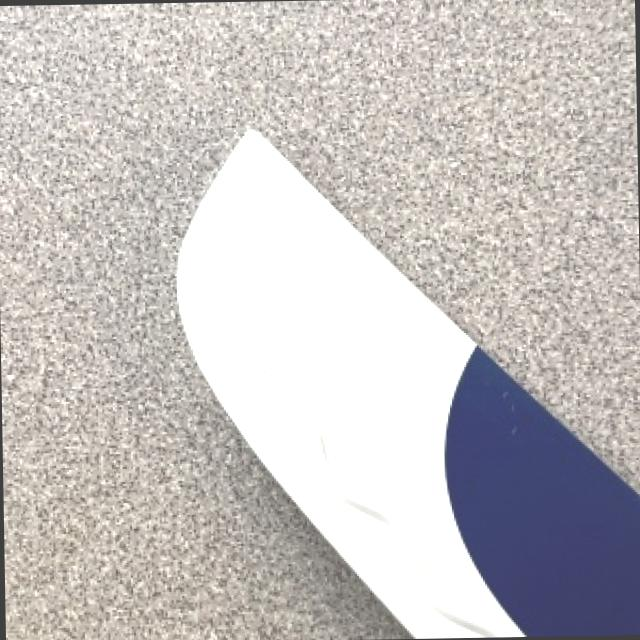healthy: (178, 129, 640, 636)
